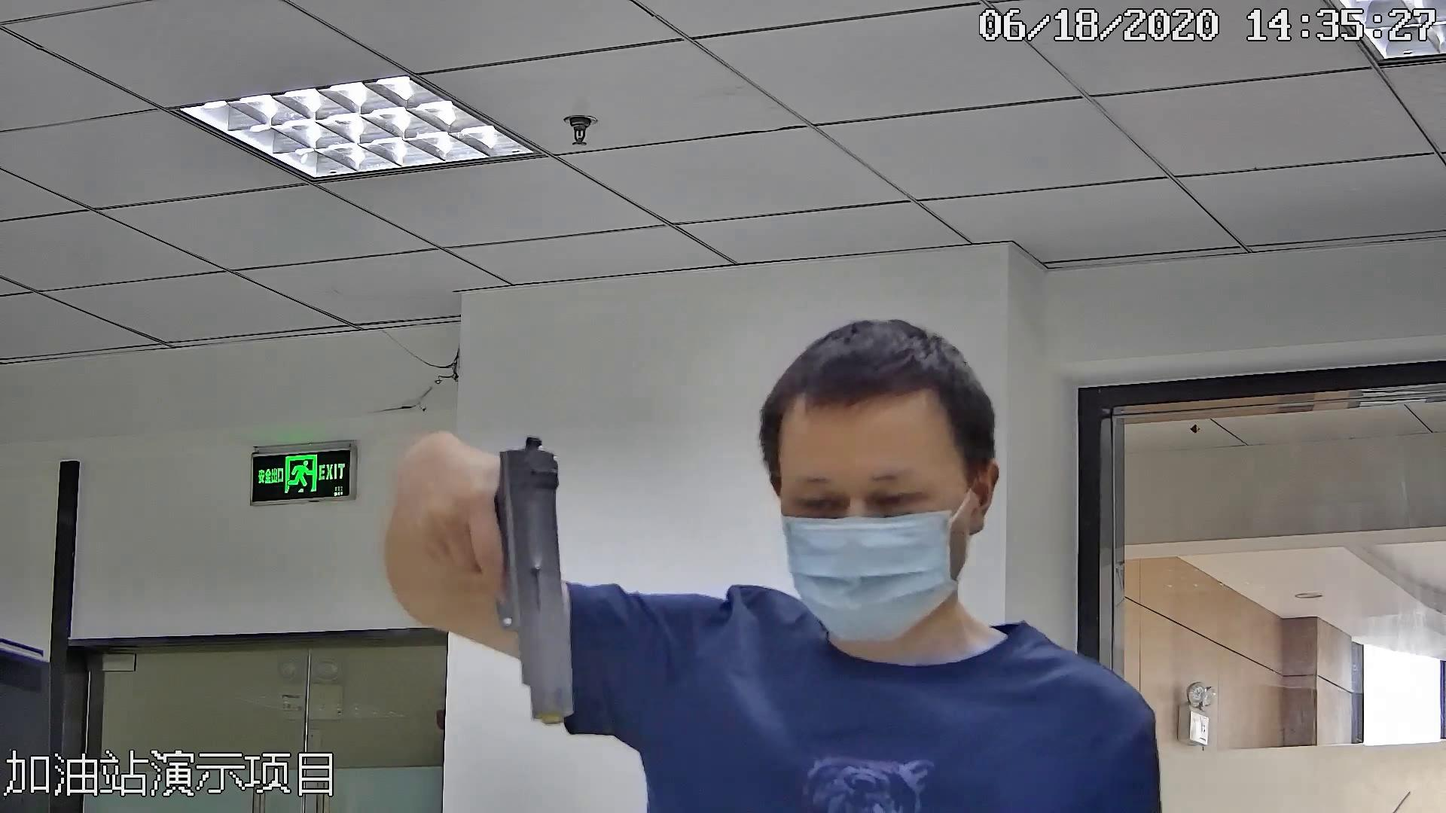gun: (413, 431, 585, 729)
